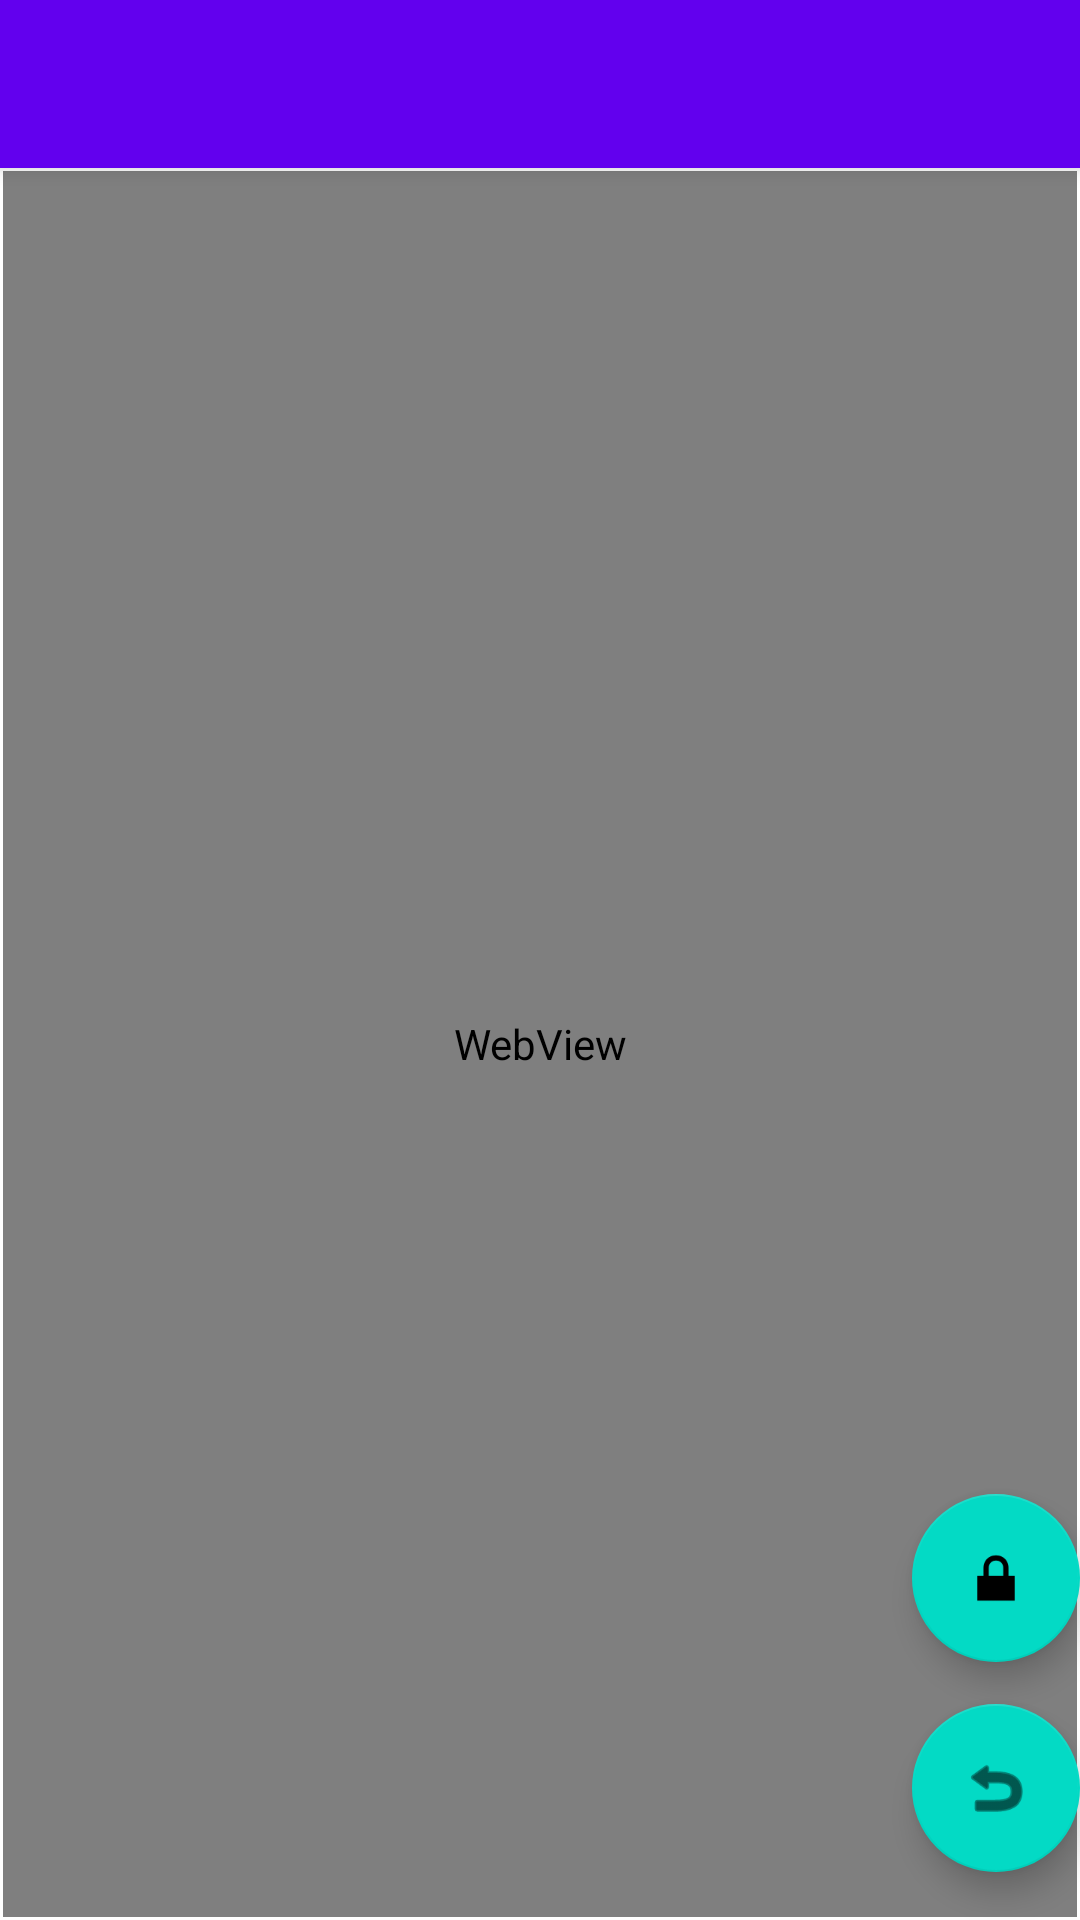

Named icons in this screenshot (1080w x 1920h) and their centers, point (x, y):
revert: point (996, 1788)
